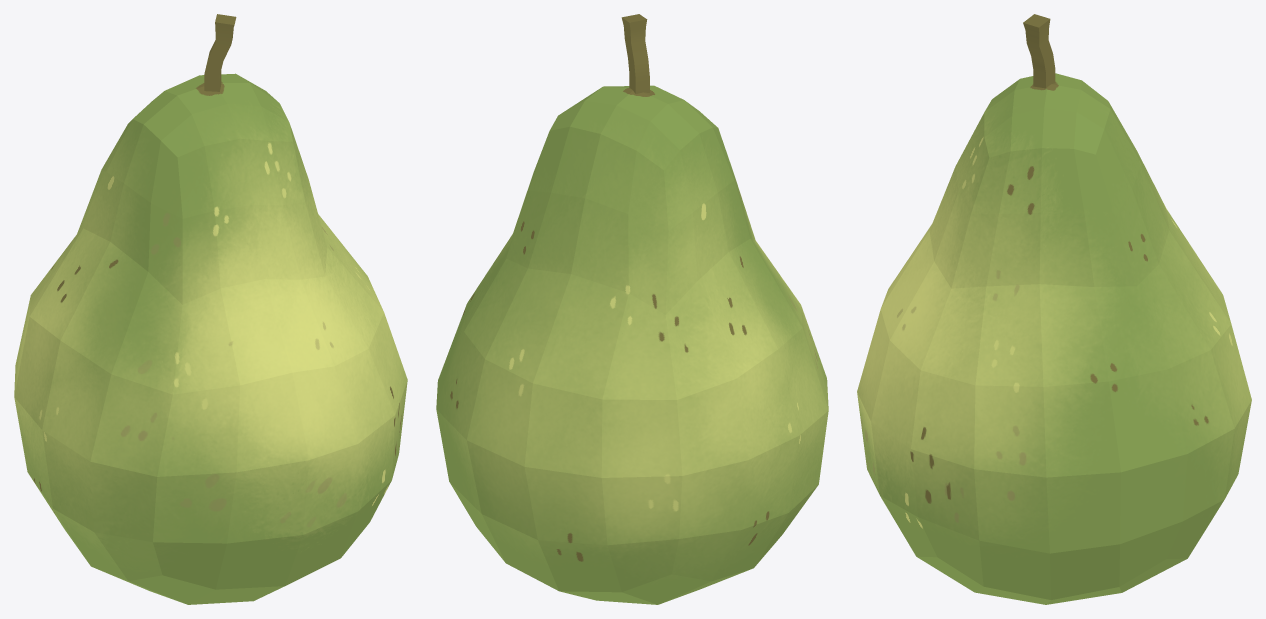
Rendered from pear.glb.
3 views of the same model, side by side, from view 1: azimuth 30°, elevation 25°; view 2: azimuth 150°, elevation 25°; view 3: azimuth 270°, elevation 25° (orthographic).
Visible parts, largest first — view 1: Object_2; view 2: Object_2; view 3: Object_2.
Part boxes in pixels (<box>): Object_2: <box>14,14,407,604</box>; Object_2: <box>436,14,828,604</box>; Object_2: <box>857,14,1251,604</box>.
Size of the model in its own units: 12.05 by 19.18 by 12.08.
1 material, 1 textured.
